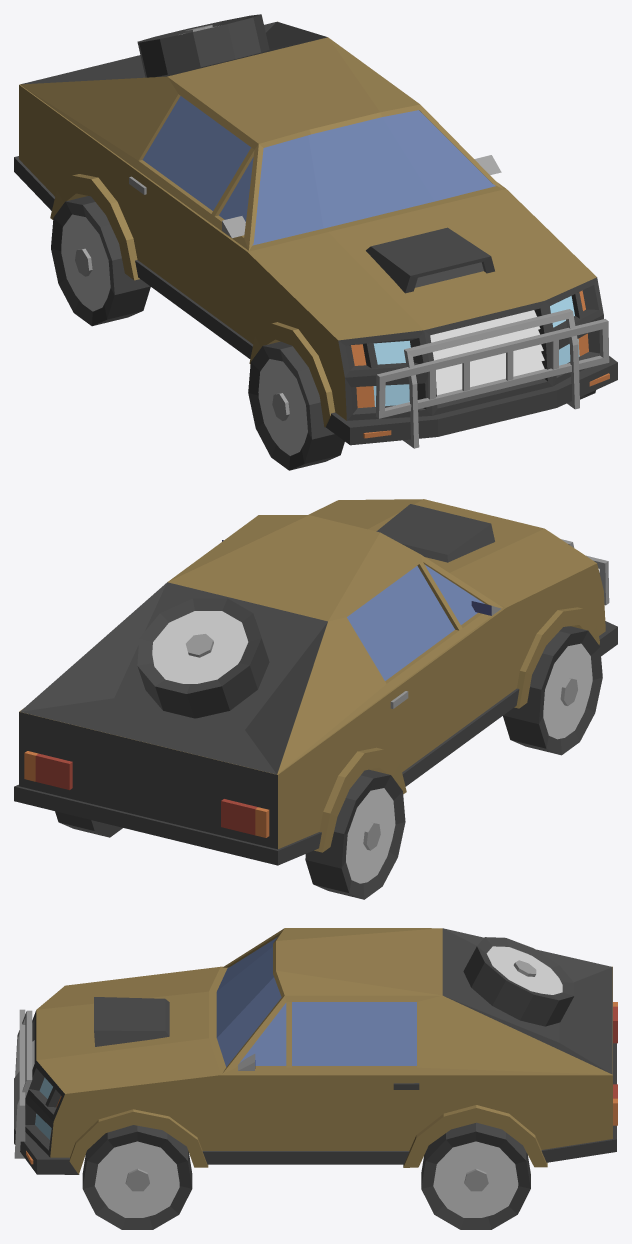
Rendered from transport_jeep_004.fbx.
3 views of the same model, one above another, from view 1: azimuth 30°, elevation 25°; view 2: azimuth 150°, elevation 25°; view 3: azimuth 270°, elevation 25° (orthographic). The views are drawn at different scales.
Visible parts, largest first — view 1: transport_jeep_004; view 2: transport_jeep_004; view 3: transport_jeep_004.
Part boxes in pixels (x1=…): transport_jeep_004: x1=14, y1=14, x2=617, y2=470; transport_jeep_004: x1=14, y1=499, x2=617, y2=899; transport_jeep_004: x1=14, y1=928, x2=617, y2=1229.
Size of the model in its own units: 176 by 150 by 368.
